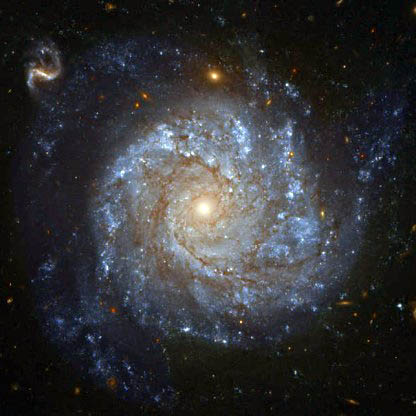NGC 1309: (16, 30, 383, 378)
